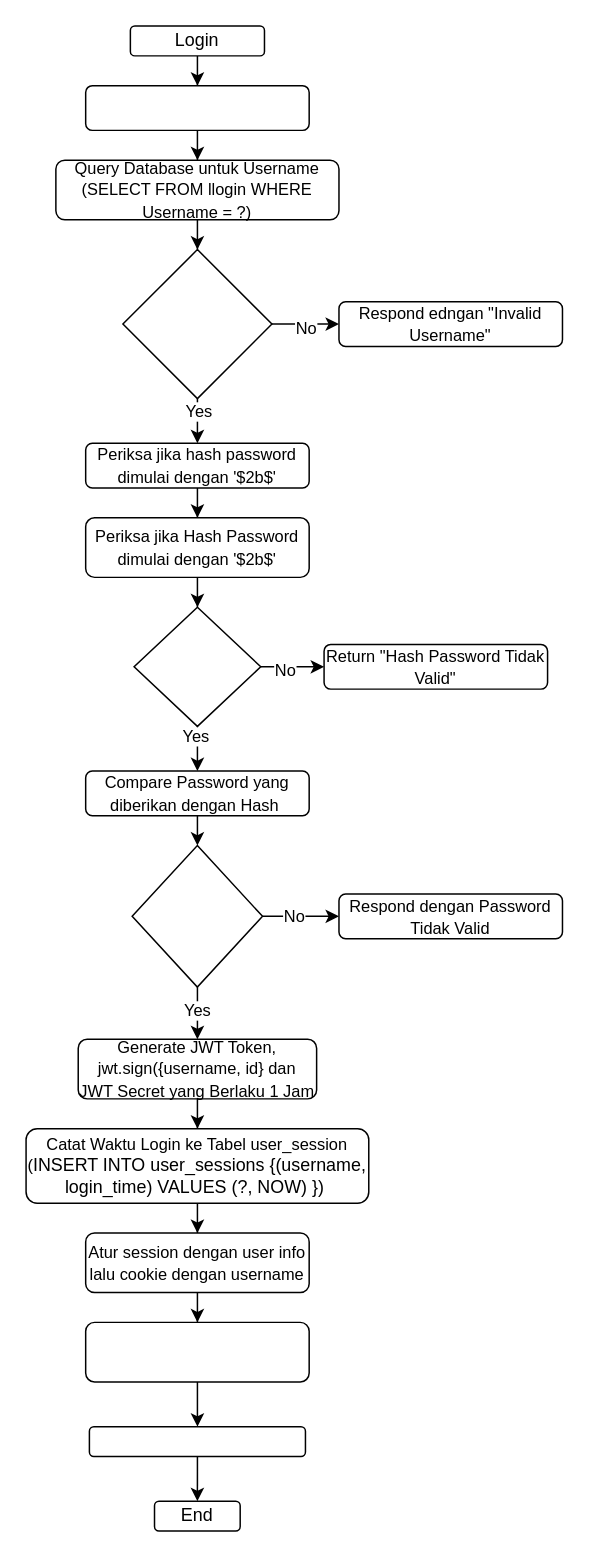
Image size: 589x1557. Some labels were removed from this diagram. Each missing label, with the centre of its shape:
"Apakah Hash Valid" belongs at [197,666].
"Apakah Password Valid" belongs at [197,915].
"apakah Username valid/cocok ?" belongs at [196,323].
"Kirim JWT Token ke Flask Server (POST http://localhost:5000/token)" belongs at [196,1351].
"Return Token dan User ID" belongs at [196,1440].
"Teriama permintaan Login (Username,Password)" belongs at [196,107].
